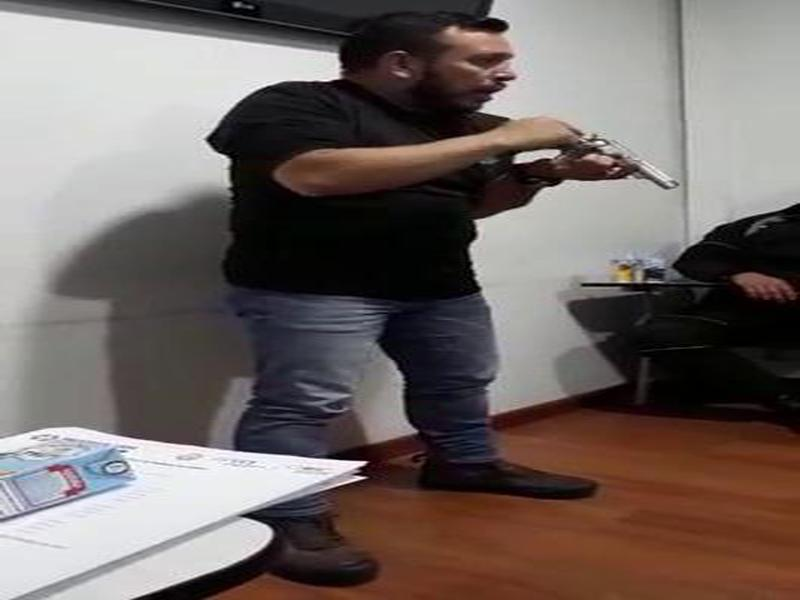Revolver: (534, 120, 697, 218)
